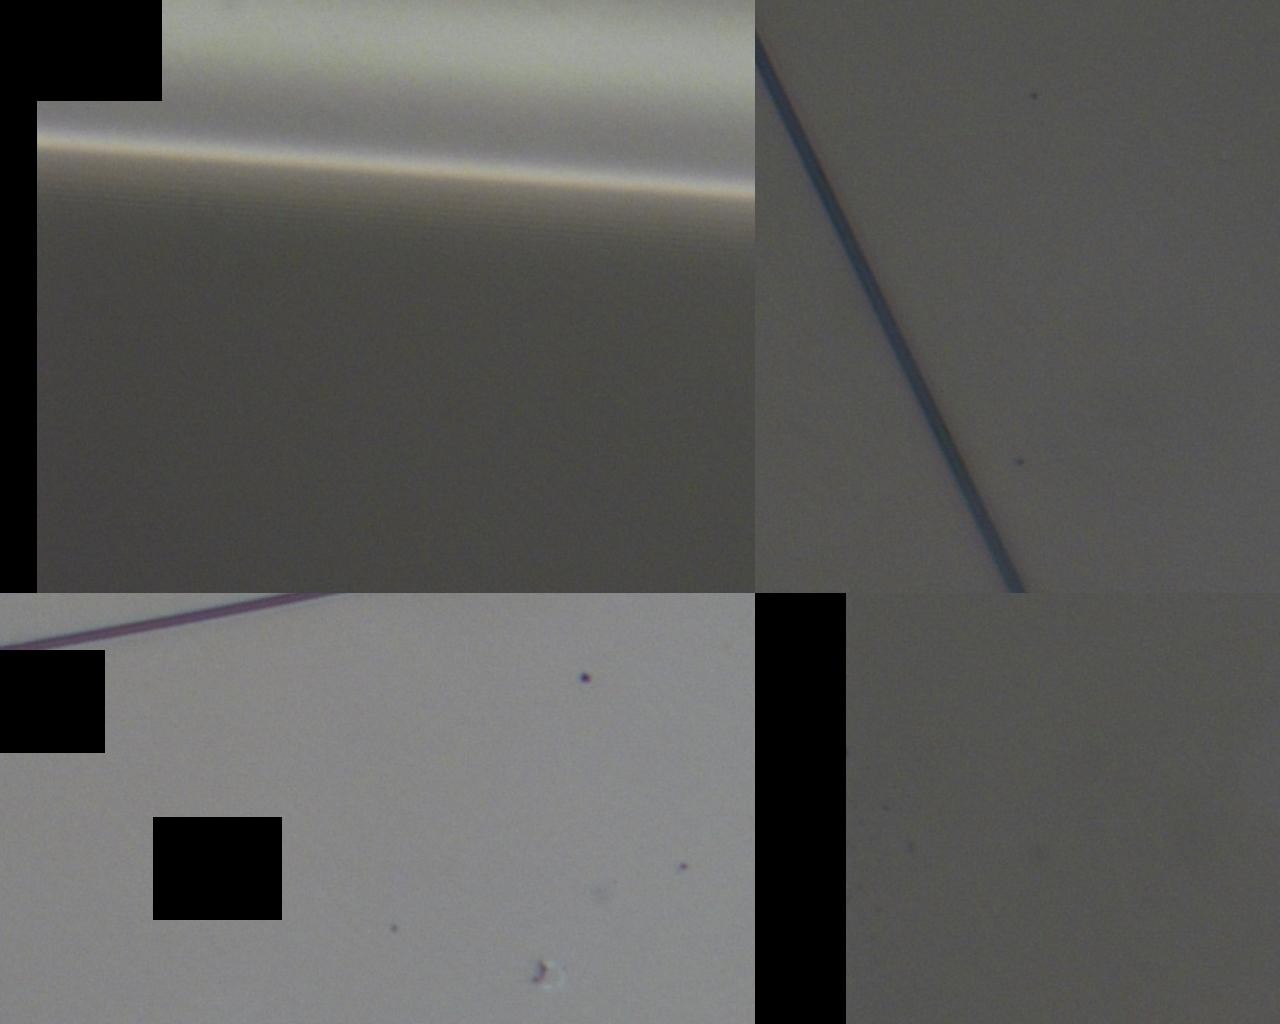fiber: (457, 0, 708, 1024)
